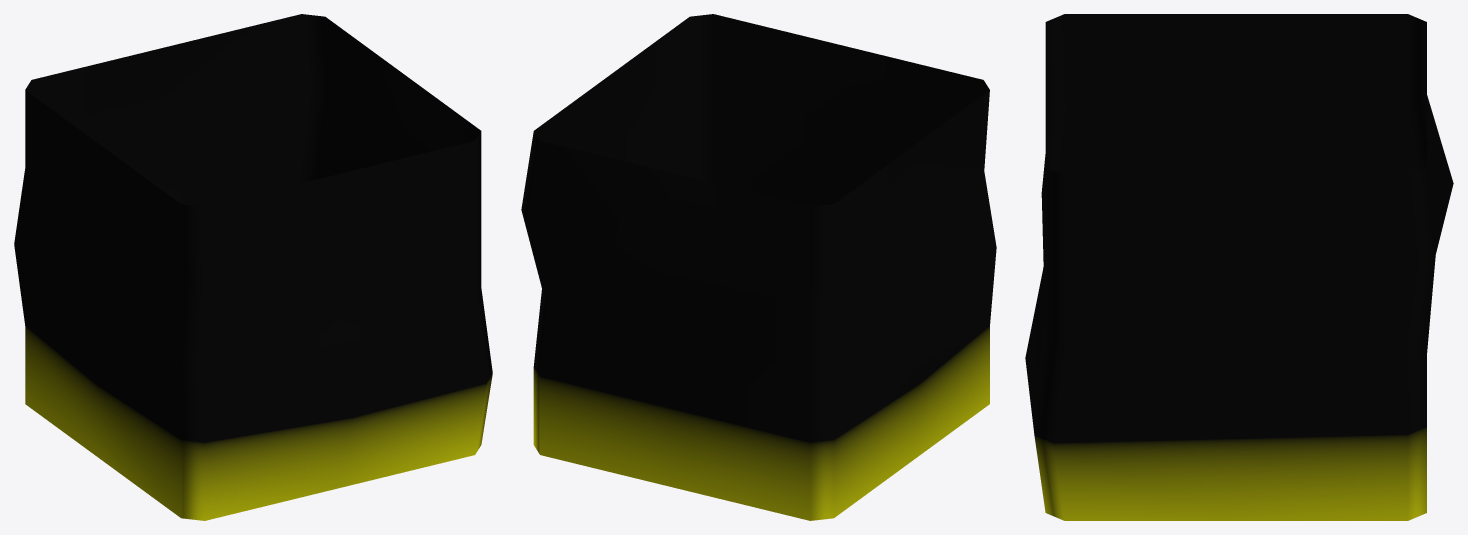
Rendered from SM_CliffPiece.fbx.
The picture shows the model from 3 angles, left to right: view 1: azimuth 30°, elevation 25°; view 2: azimuth 150°, elevation 25°; view 3: azimuth 270°, elevation 25°; orthographic projection. The views are drawn at different scales.
Visible parts, largest first — view 1: SM_CliffPiece; view 2: SM_CliffPiece; view 3: SM_CliffPiece.
Boxes of the visible parts, x1,y1,x2,y2 form: SM_CliffPiece: (14, 14, 492, 520); SM_CliffPiece: (521, 14, 996, 520); SM_CliffPiece: (1025, 14, 1453, 520).
Bounding box in the file's own units: 532 × 500 × 561.
